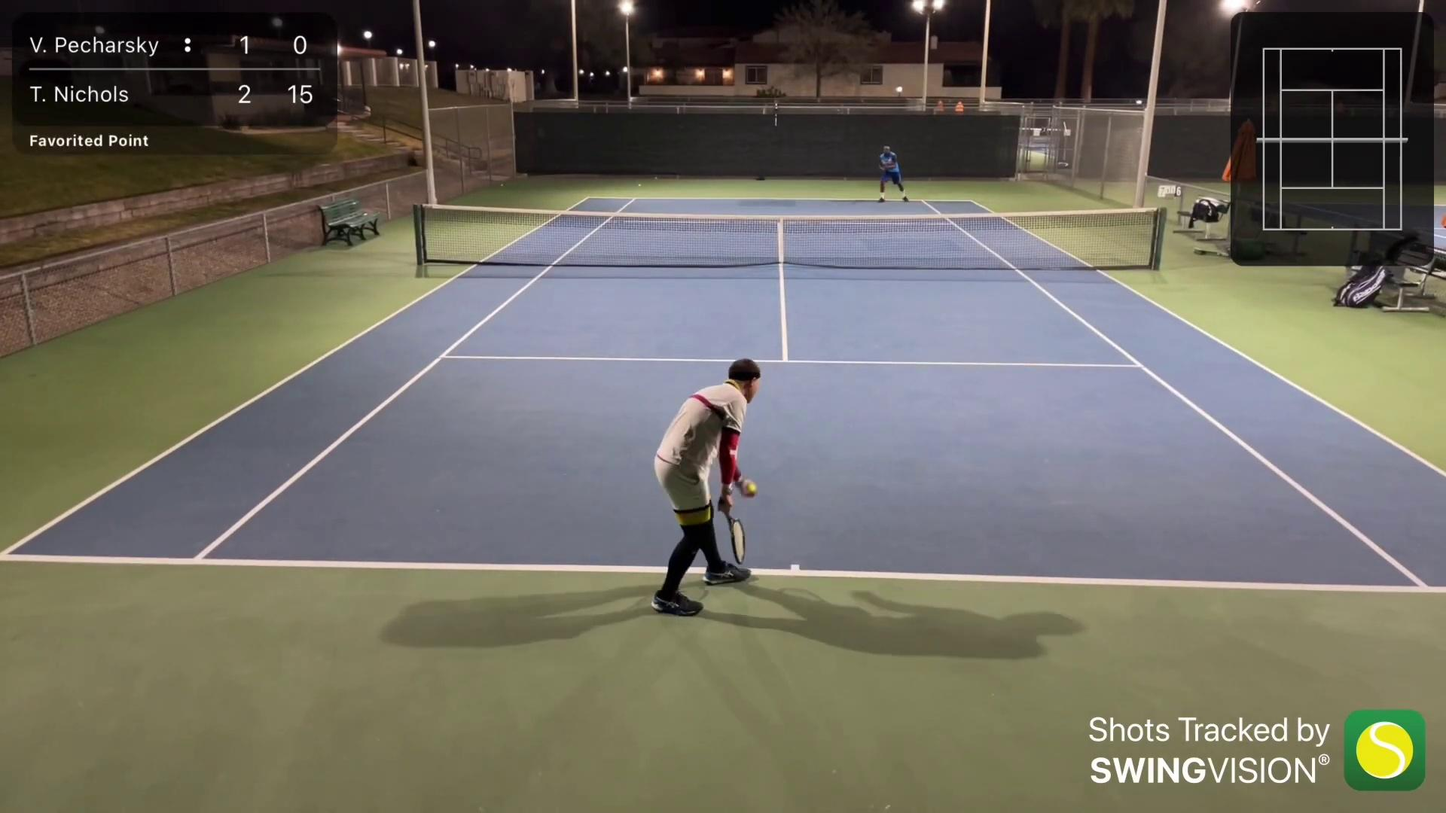ball: (742, 480, 759, 493)
